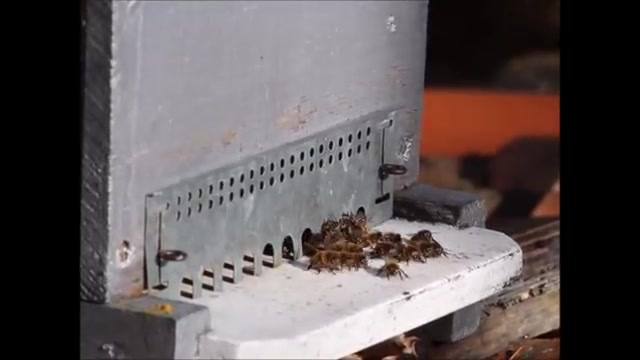bee: (312, 220, 401, 257), (314, 252, 360, 273), (409, 232, 439, 257), (377, 262, 407, 282)
